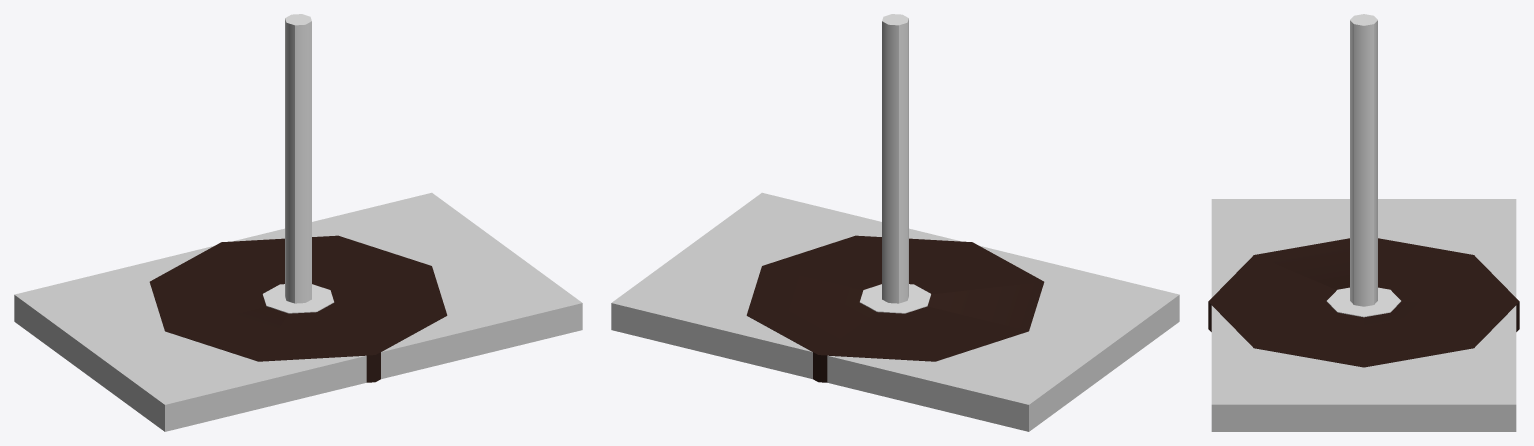
Rendered from Table_RoundBase-01.fbx.
3 views of the same model, side by side, from view 1: azimuth 30°, elevation 25°; view 2: azimuth 150°, elevation 25°; view 3: azimuth 270°, elevation 25° (orthographic).
Visible parts, largest first — view 1: Table_TopRectangle, Table_TopRound, Table_TopSquare, Table_Pole, Table_Base; view 2: Table_TopRectangle, Table_TopRound, Table_TopSquare, Table_Pole, Table_Base; view 3: Table_TopRectangle, Table_TopRound, Table_Pole, Table_TopSquare, Table_Base.
Part boxes in pixels (box(x1,y1,x2,y2)): Table_TopRectangle: box(14, 192, 582, 431); Table_TopRound: box(149, 235, 447, 382); Table_TopSquare: box(93, 212, 504, 412); Table_Pole: box(285, 14, 311, 303); Table_Base: box(262, 284, 334, 313); Table_TopRectangle: box(611, 192, 1179, 431); Table_TopRound: box(746, 235, 1044, 382); Table_TopSquare: box(689, 232, 1099, 412); Table_Pole: box(882, 14, 908, 303); Table_Base: box(859, 284, 931, 313); Table_TopRectangle: box(1211, 199, 1516, 431); Table_TopRound: box(1208, 238, 1519, 367); Table_Pole: box(1350, 14, 1377, 306); Table_TopSquare: box(1282, 237, 1516, 365); Table_Base: box(1326, 287, 1401, 317).
Bounding box in the file's own units: 0.9856 × 0.6903 × 0.63.
